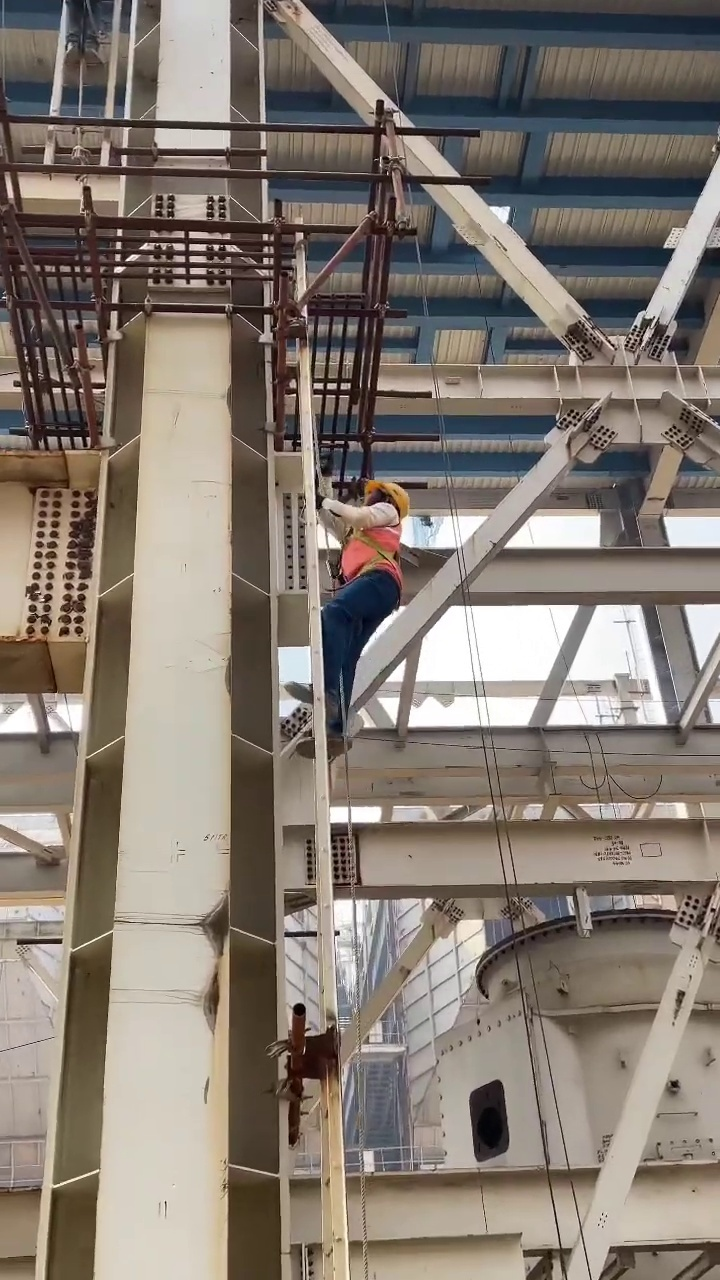Helmet: (366, 478, 409, 515)
Person: (283, 478, 409, 757)
Safety_Harness: (340, 522, 405, 581)
Safety_shoes: (283, 680, 337, 717), (295, 733, 353, 760), (82, 48, 103, 72), (62, 39, 79, 68)
